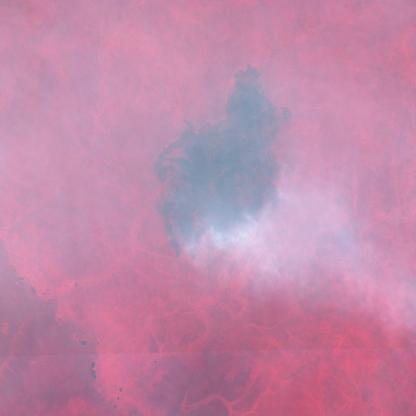fire: (148, 156, 288, 263)
